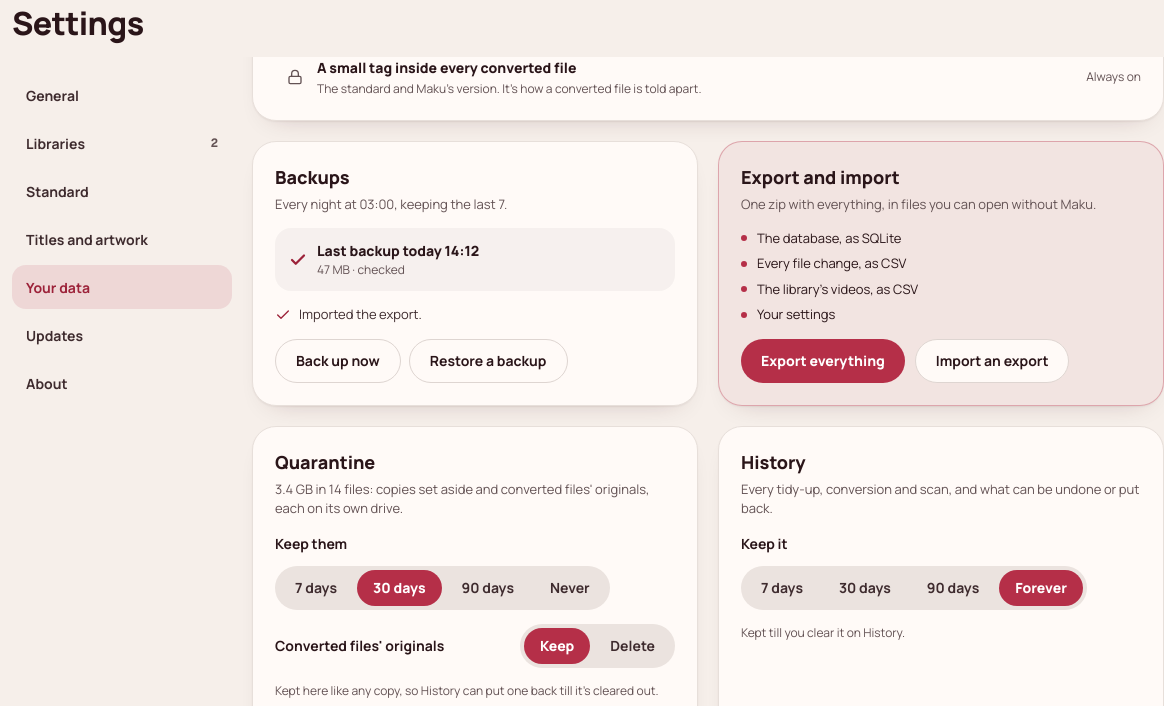
it: SettingsPage › says what kind each backup is
(page scrolled)
Expected: the text "Imported the export." is shown, [275, 305, 422, 323]
Click the button "Restore a backup": (488, 361) [409, 339, 568, 383]
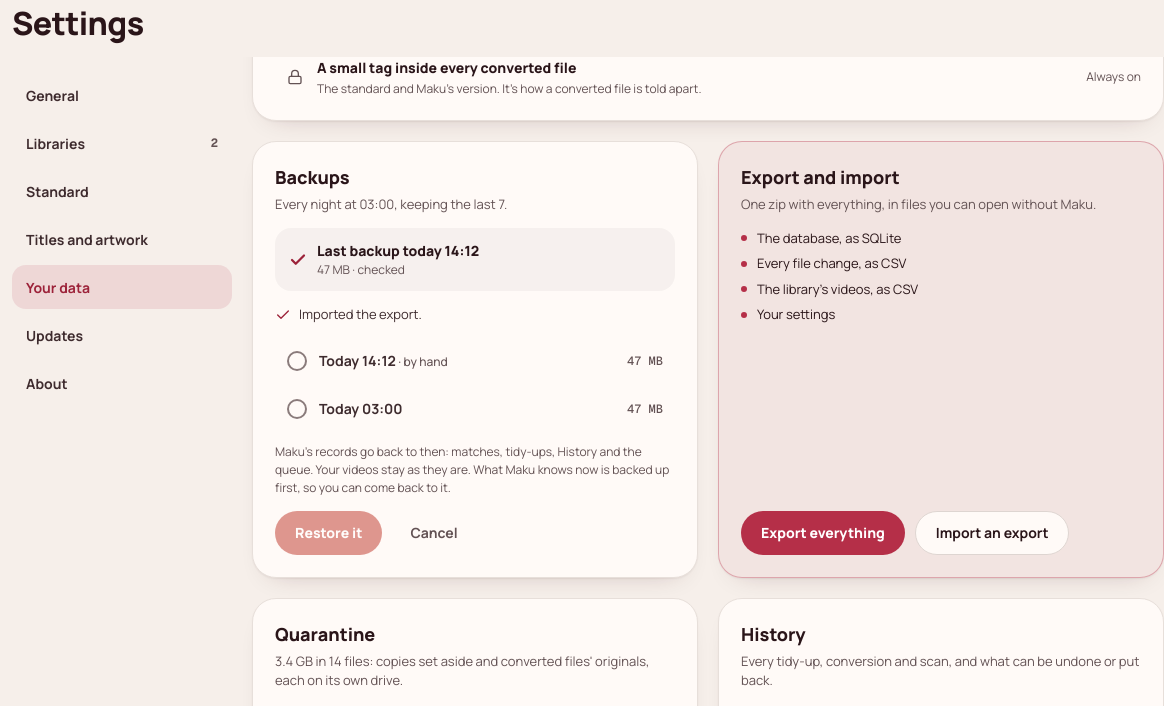
Result: the radio button with aria-label "Today 14:12 · by hand, 47 MB" is shown at [275, 339, 675, 383]
Result: the radio button with aria-label "Today 03:00, 47 MB" is shown at [275, 387, 675, 431]
